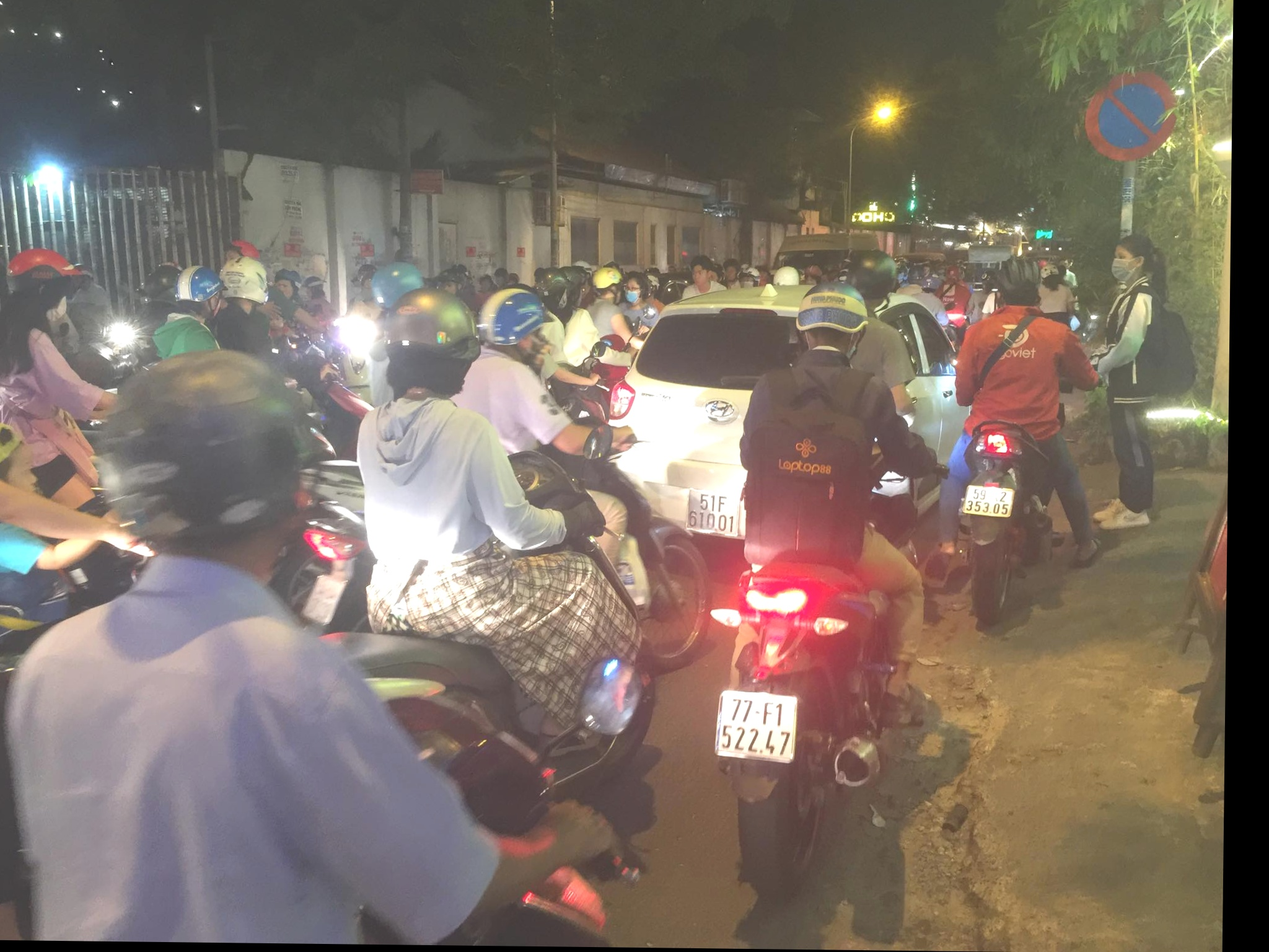Bien-so: (721, 687, 796, 759), (298, 572, 349, 631), (688, 487, 744, 538), (967, 479, 1018, 521)
